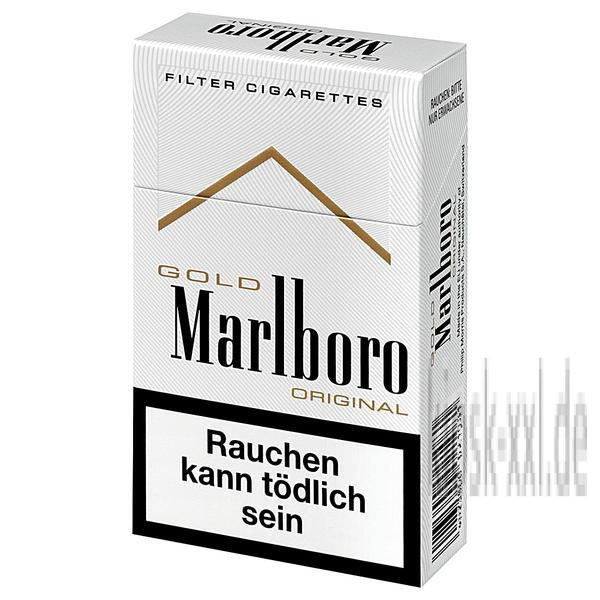marlboro_gold: (132, 67, 420, 536)
